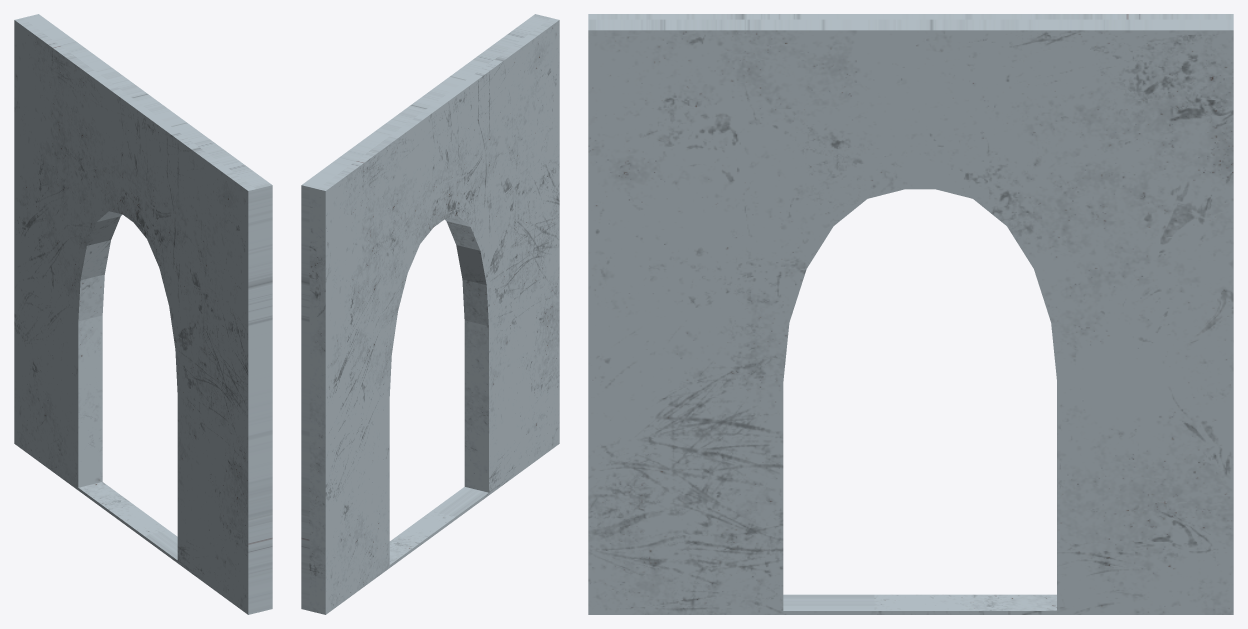
Rendered from Parede--porta.fbx.
3 renders of one model, left to right at view 1: azimuth 30°, elevation 25°; view 2: azimuth 150°, elevation 25°; view 3: azimuth 270°, elevation 25°, orthographic. The views are drawn at different scales.
Visible parts, largest first — view 1: parede-porta; view 2: parede-porta; view 3: parede-porta.
Part boxes in pixels (left/top/right/bottom): parede-porta: left=14, top=14, right=272, bottom=614; parede-porta: left=301, top=14, right=559, bottom=614; parede-porta: left=588, top=14, right=1233, bottom=614.
Size of the model in its own units: 30 by 500 by 500.
Materials: 2 (2 with a texture image).
